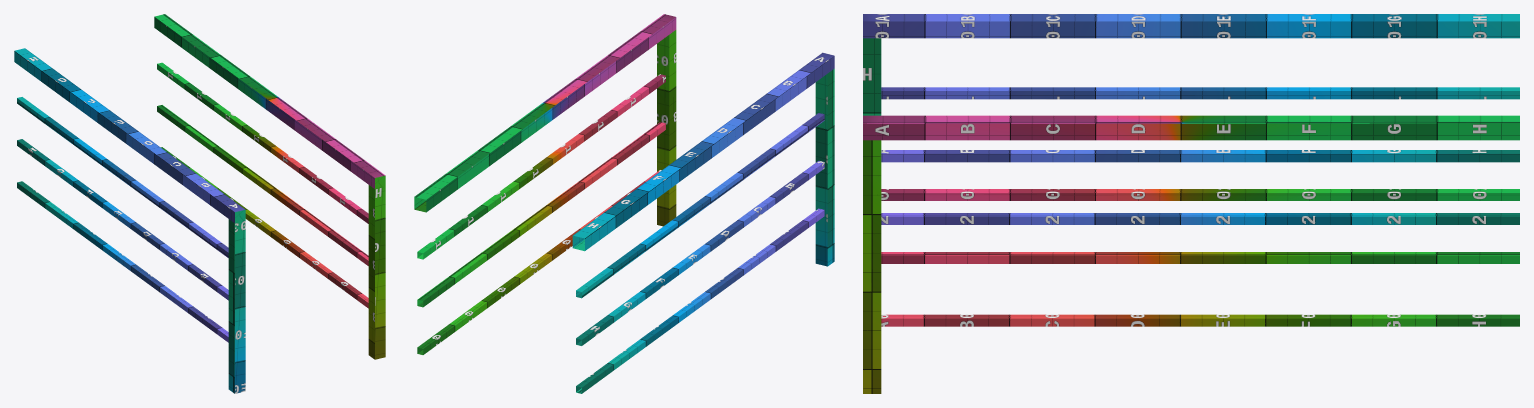
The model's file is BalconyRamp.fbx.
The picture shows the model from 3 angles, left to right: view 1: azimuth 30°, elevation 25°; view 2: azimuth 150°, elevation 25°; view 3: azimuth 270°, elevation 25°; orthographic projection. The views are drawn at different scales.
Visible parts, largest first — view 1: Rembarde, Rembarde1; view 2: Rembarde, Rembarde1; view 3: Rembarde1, Rembarde.
Boxes of the visible parts, x1,y1,x2,y2 form: Rembarde: (14, 48, 245, 393); Rembarde1: (154, 14, 385, 359); Rembarde: (572, 52, 834, 393); Rembarde1: (414, 14, 676, 354); Rembarde1: (863, 115, 1519, 393); Rembarde: (863, 14, 1519, 224).
Size of the model in its own units: 108 by 124 by 273.
